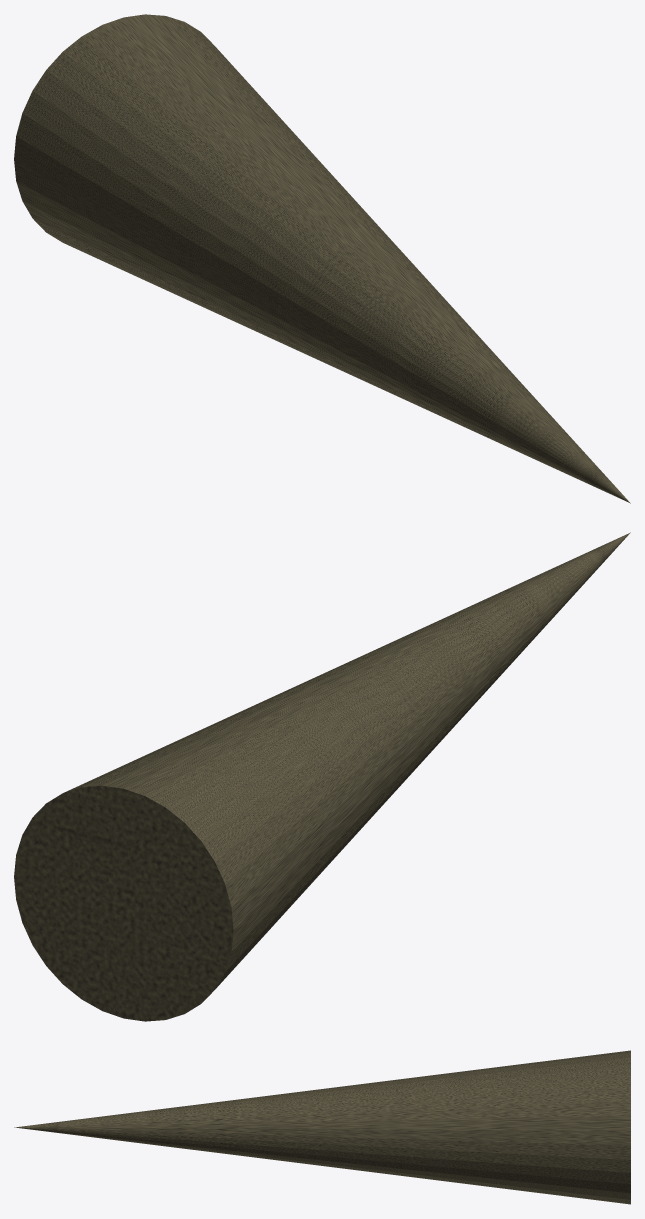
The model's file is snaketail.obj.
3 views of the same model, one above another, from view 1: azimuth 30°, elevation 25°; view 2: azimuth 150°, elevation 25°; view 3: azimuth 270°, elevation 25° (orthographic). The views are drawn at different scales.
Visible parts, largest first — view 1: Cone; view 2: Cone; view 3: Cone.
Boxes of the visible parts, x1=… form: Cone: x1=14, y1=14, x2=630, y2=503; Cone: x1=14, y1=532, x2=630, y2=1021; Cone: x1=14, y1=1050, x2=630, y2=1204.
Bounding box in the file's own units: 0.5 × 0.5 × 2.
Materials: 1 (1 with a texture image).
